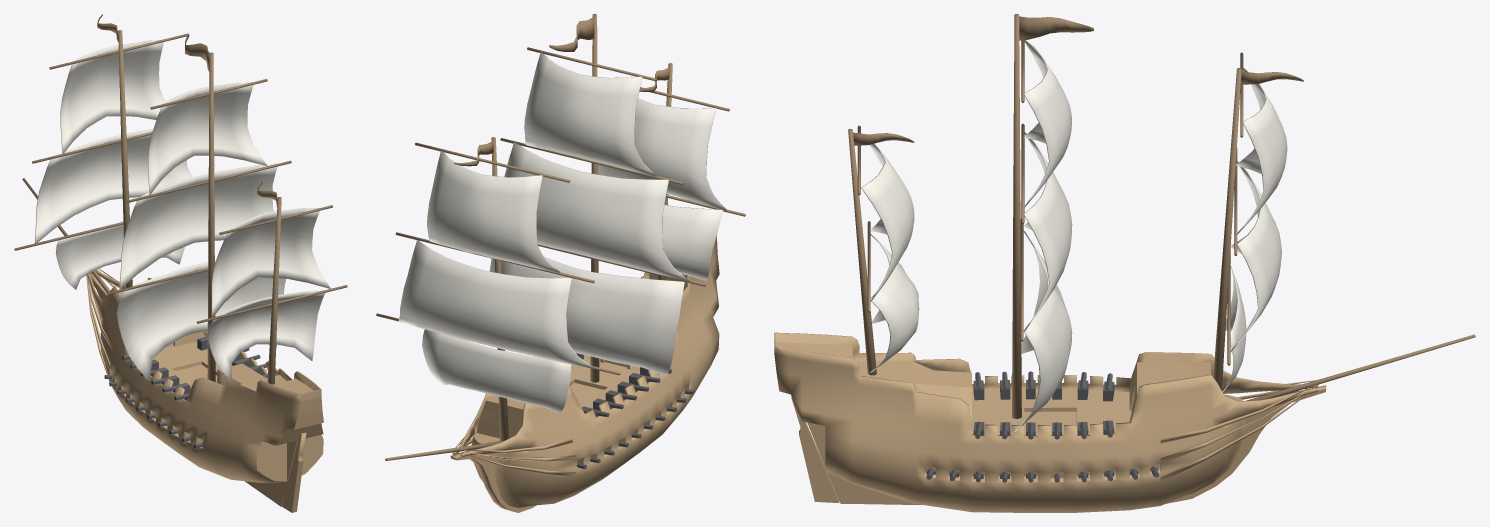
Rendered from galleon.glb.
3 renders of one model, left to right at view 1: azimuth 30°, elevation 25°; view 2: azimuth 150°, elevation 25°; view 3: azimuth 270°, elevation 25°, orthographic. The views are drawn at different scales.
Parts seen in each view (by area): view 1: sail, hull, spar, iron; view 2: sail, hull, spar, iron; view 3: hull, sail, spar, iron.
Part boxes in pixels (x1,y1,x2,y2): sail: (34, 40, 330, 380); hull: (86, 269, 323, 512); spar: (14, 14, 347, 384); iron: (104, 336, 267, 448); sail: (398, 52, 727, 413); hull: (450, 235, 719, 512); spar: (376, 14, 745, 460); iron: (571, 353, 694, 469); hull: (774, 332, 1326, 512); sail: (861, 40, 1287, 431); spar: (848, 14, 1475, 418); iron: (926, 371, 1158, 482).
Size of the model in its own units: 22.33 by 39.1 by 50.83.
